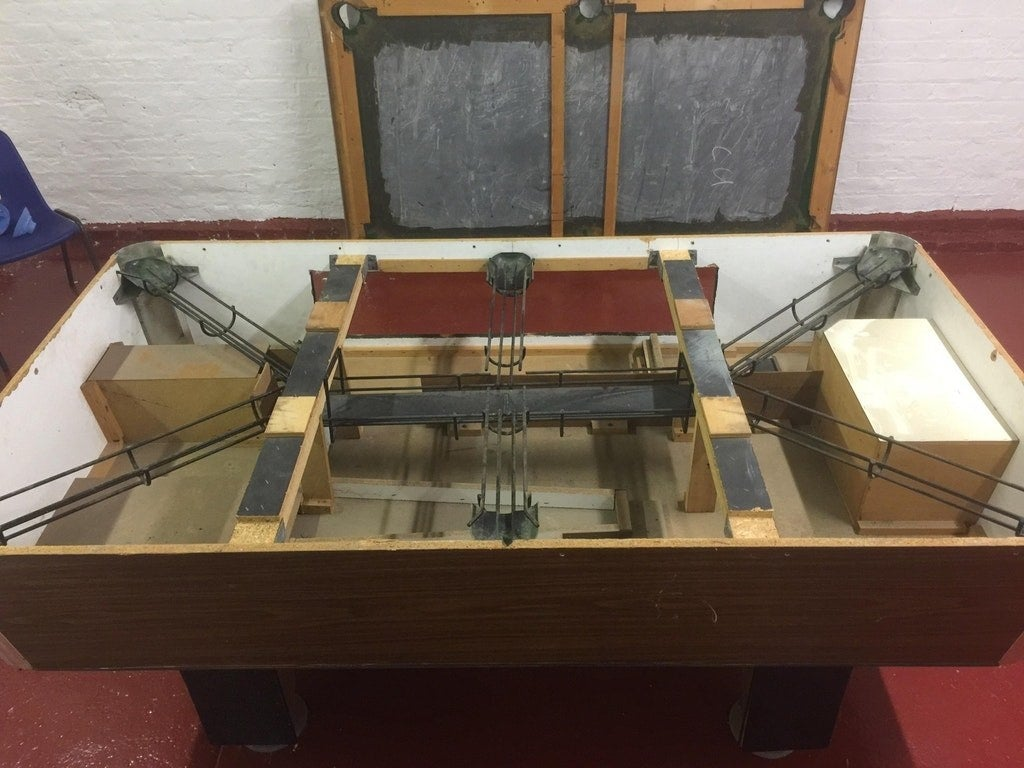not a gesture sign: (67, 209, 905, 746)
